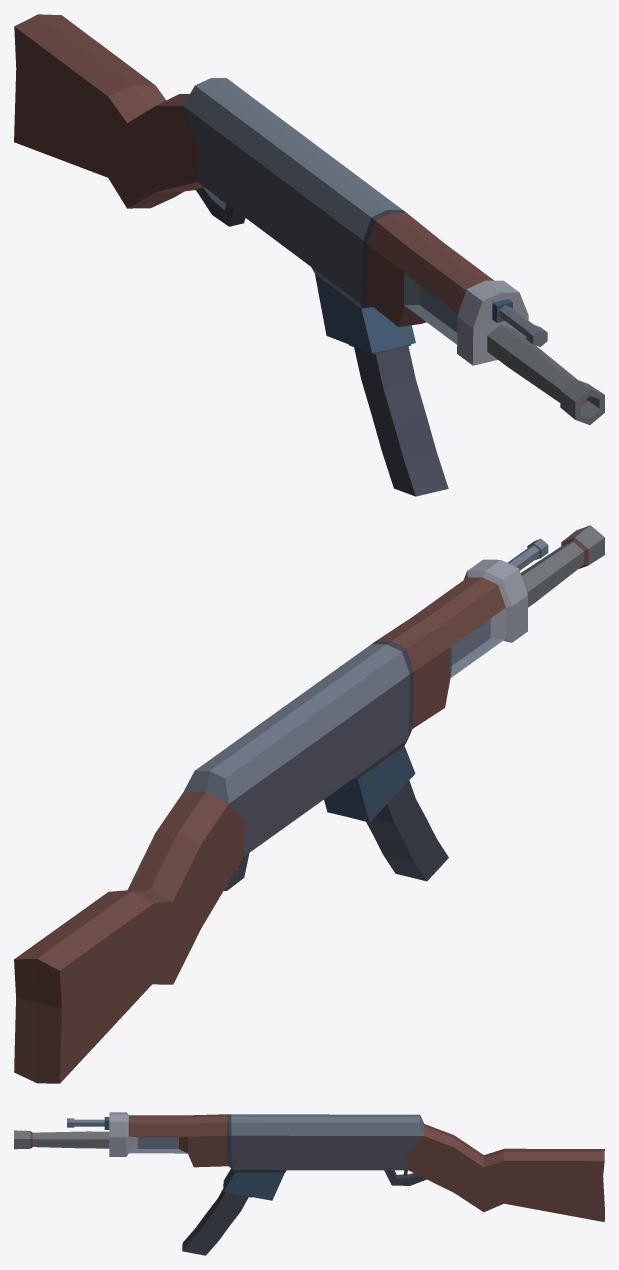
The model's file is Rifle_SMG.fbx.
3 renders of one model, top to bottom at view 1: azimuth 30°, elevation 25°; view 2: azimuth 150°, elevation 25°; view 3: azimuth 270°, elevation 25°, orthographic. The views are drawn at different scales.
Parts seen in each view (by area): view 1: Rifle_SMG; view 2: Rifle_SMG; view 3: Rifle_SMG.
Part boxes in pixels (x1=…): Rifle_SMG: x1=14, y1=14, x2=604, y2=496; Rifle_SMG: x1=14, y1=525, x2=604, y2=1083; Rifle_SMG: x1=14, y1=1112, x2=604, y2=1255.
Size of the model in its own units: 0.0521 by 0.223 by 0.8736.
